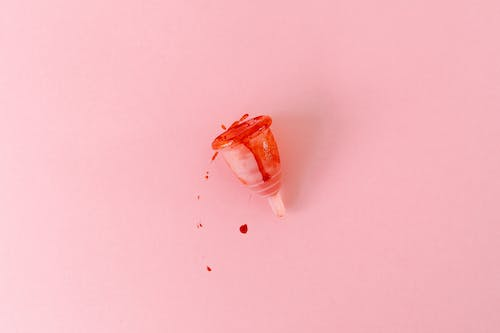blood: (195, 111, 249, 272), (210, 113, 283, 199)
